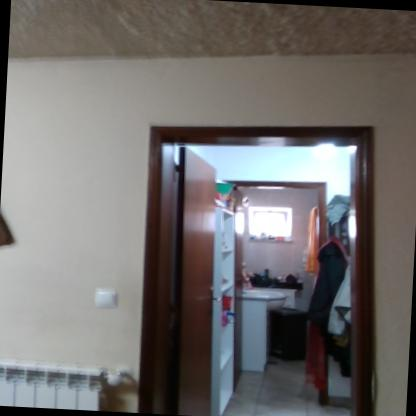open: (122, 92, 386, 414)
